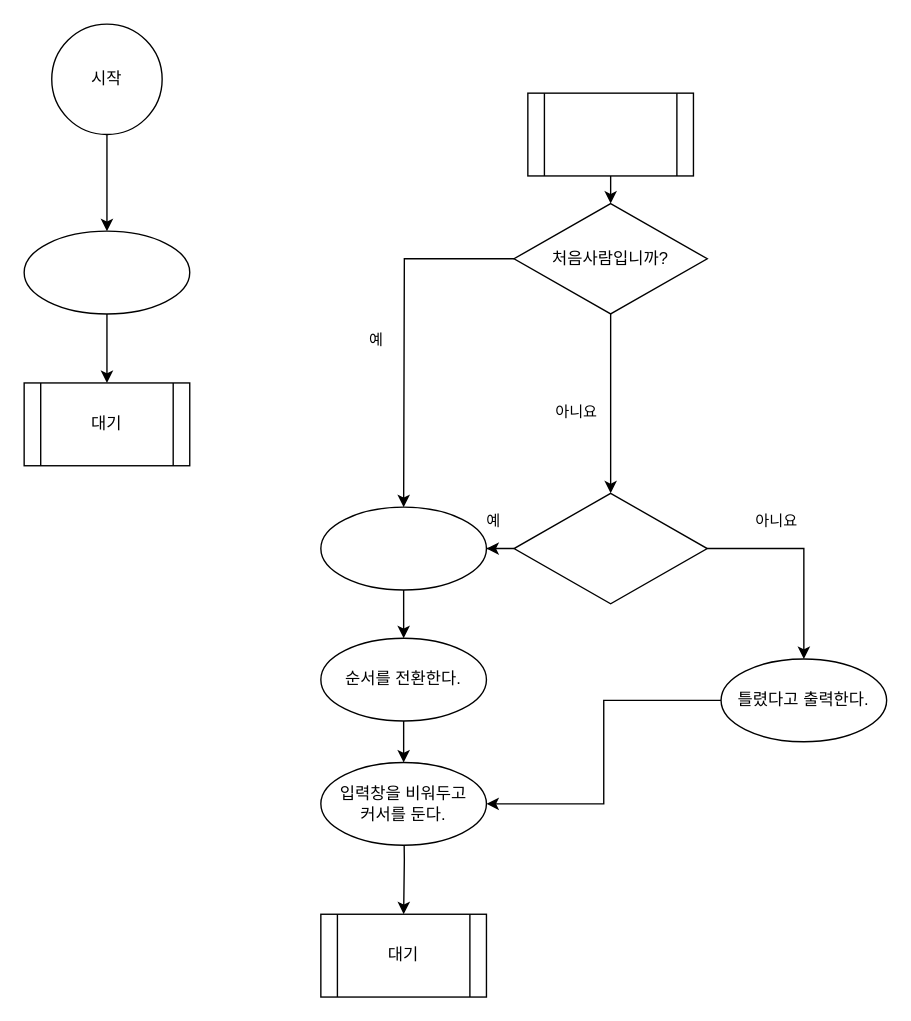
Image size: 911x1021. Some labels were removed from this diagram. The shapes that lost their labels are listed below. From the top down, each one's centre as x and y in pixels, then its label:
At point (609, 134): "입력".
At point (106, 272): "몇명이 할지 정한다.".
At point (402, 548): "입력한 단어가 제시어가 된다".
At point (610, 548): "올바른가?".
